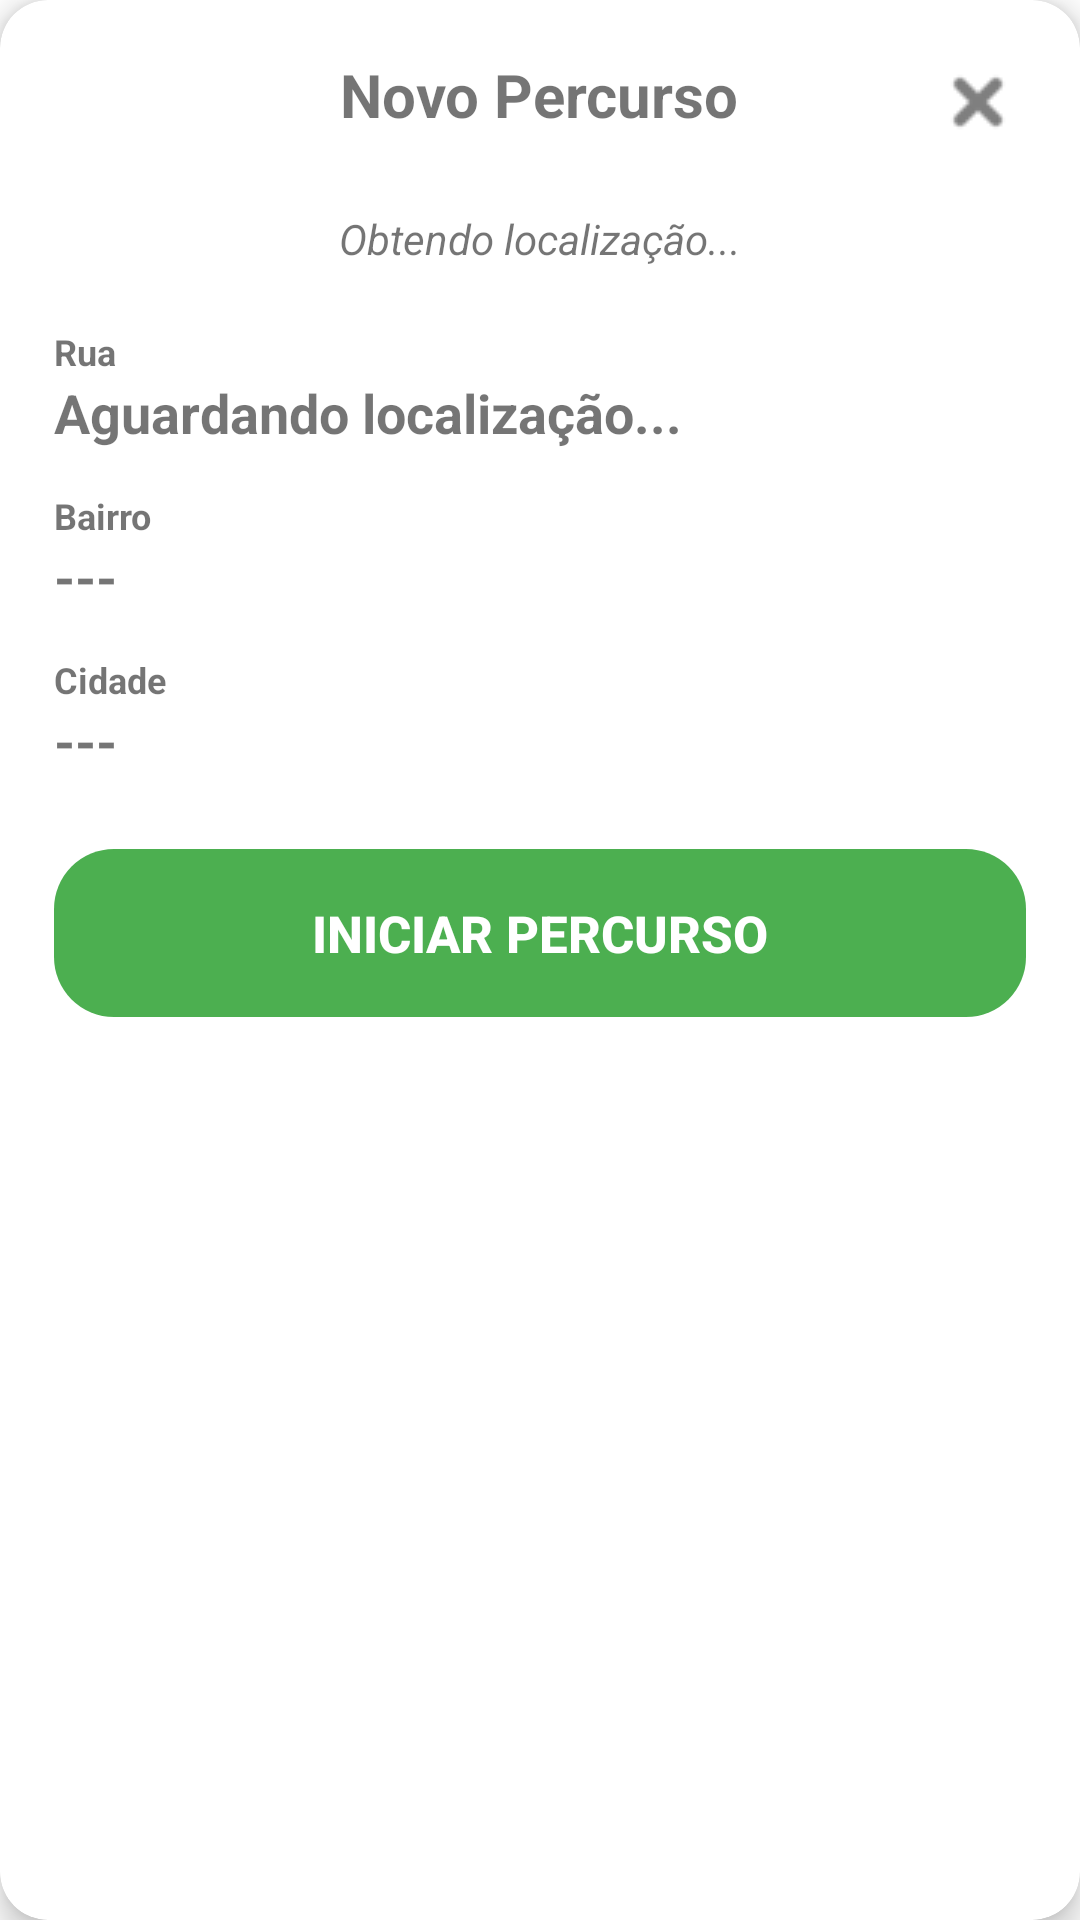

Where icons sit on this 1080*1920 app screen, as [x1,y1,x2,y2]:
fechar: [953,77,1003,127]
